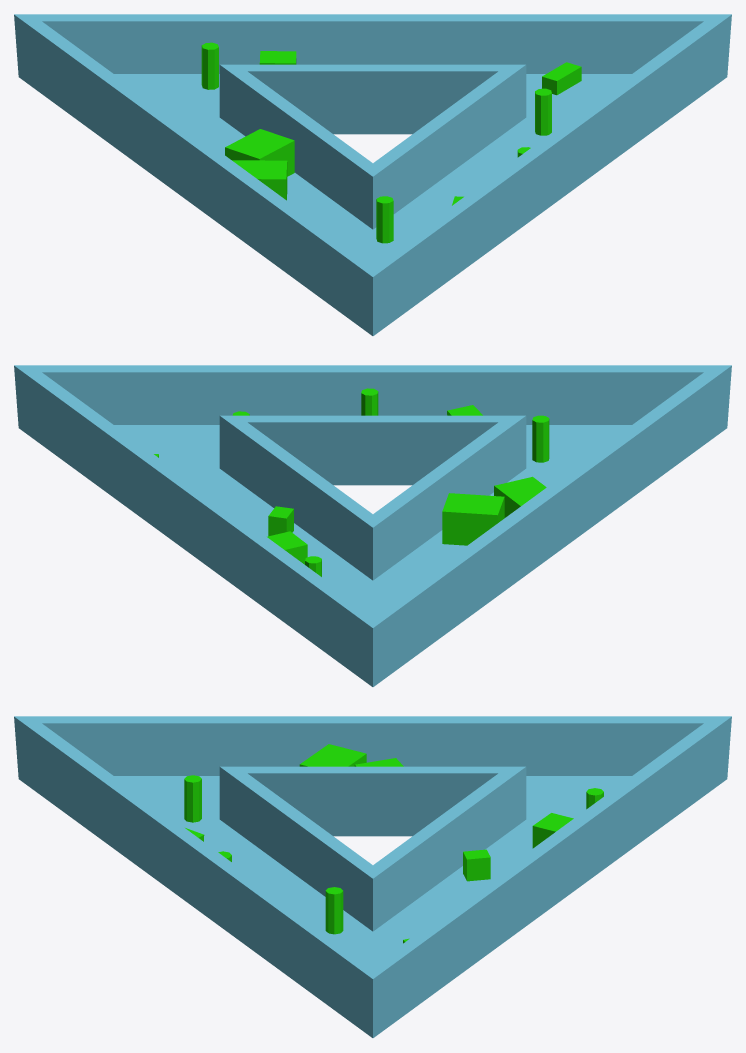
The model's file is Final_Map3.dae.
The picture shows the model from 3 angles, top to bottom: view 1: azimuth 30°, elevation 25°; view 2: azimuth 150°, elevation 25°; view 3: azimuth 270°, elevation 25°; orthographic projection.
Parts seen in each view (by area): view 1: Circle, Cube, Cube.001, Cube.004, Cylinder.003, Cylinder, Cylinder.001; view 2: Circle, Cube, Cube.001, Cylinder.003, Cube.002, Cube.003; view 3: Circle, Cube.001, Cylinder.001, Cube.003, Cylinder.003, Cube.002.
Boxes of the visible parts, bbox=[...] form: Circle: bbox=[14, 14, 731, 335]; Cube: bbox=[225, 129, 294, 176]; Cube.001: bbox=[232, 160, 287, 200]; Cube.004: bbox=[542, 62, 581, 95]; Cylinder.003: bbox=[376, 196, 393, 243]; Cylinder: bbox=[201, 42, 218, 89]; Cylinder.001: bbox=[535, 88, 551, 135]; Circle: bbox=[14, 365, 731, 686]; Cube: bbox=[442, 493, 504, 545]; Cube.001: bbox=[494, 476, 546, 517]; Cylinder.003: bbox=[532, 415, 549, 462]; Cube.002: bbox=[267, 531, 307, 564]; Cube.003: bbox=[268, 506, 293, 536]; Circle: bbox=[14, 716, 731, 1037]; Cube.001: bbox=[299, 744, 366, 766]; Cylinder.001: bbox=[325, 887, 343, 934]; Cube.003: bbox=[463, 849, 490, 881]; Cylinder.003: bbox=[184, 775, 201, 822]; Cube.002: bbox=[532, 813, 573, 848].
Bounding box in the file's own units: 28.12 × 32.47 × 3.38.
